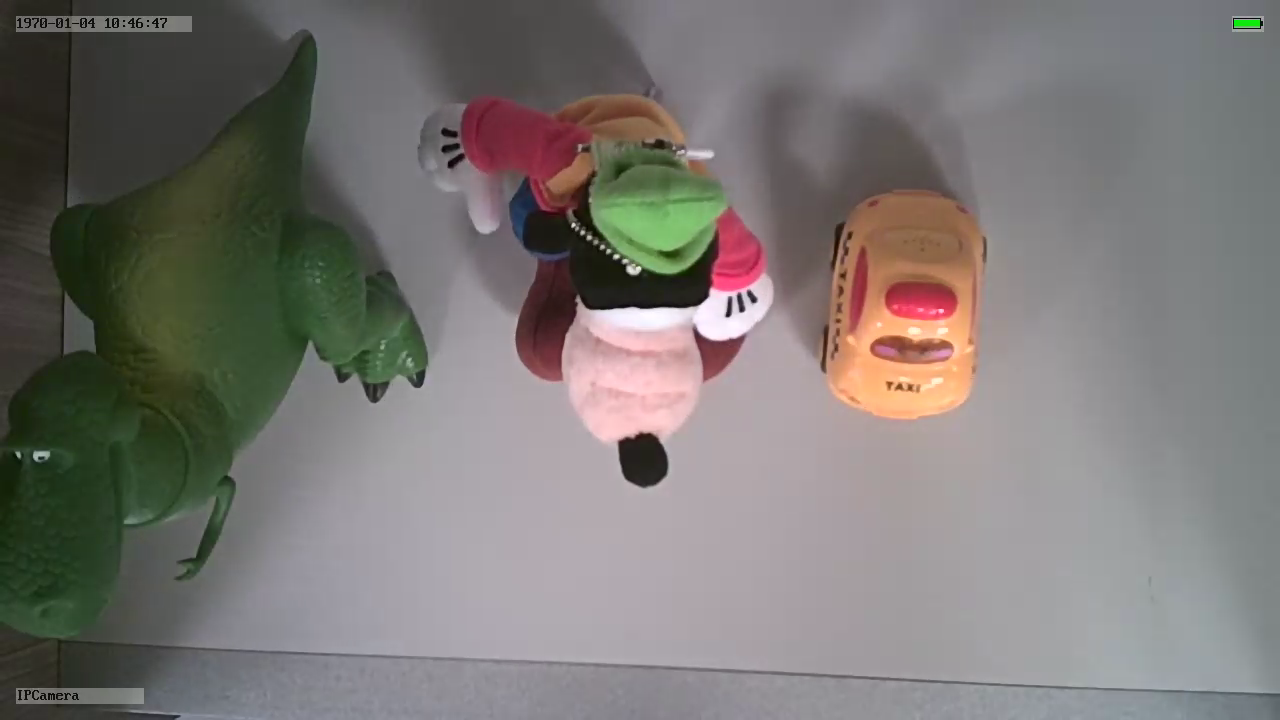goofy: (419, 87, 776, 492)
